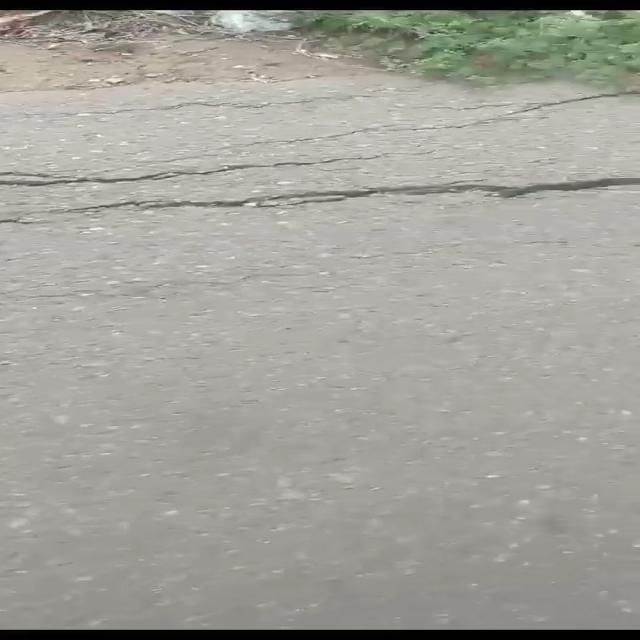Melintang: (0, 165, 640, 238)
